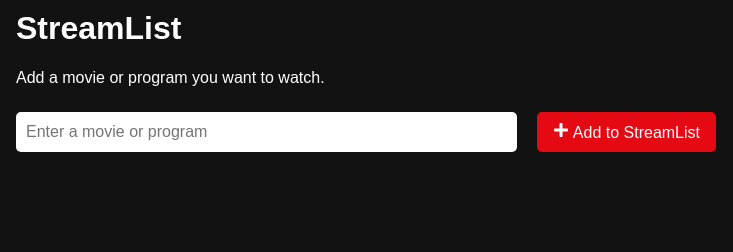
Test case: deletes an item from StreamList
In the field with placeholder "Enter a movie or program": (267, 132) [16,112,517,152], type "Superman"
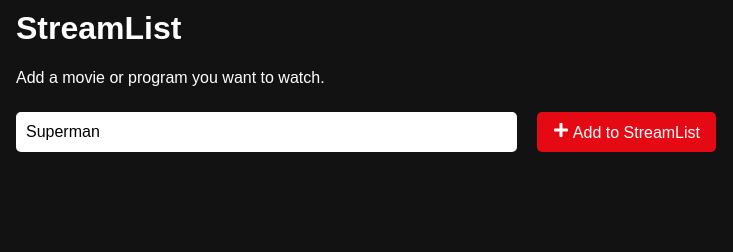
Click the button "Add to StreamList": (627, 132) [537,112,716,152]
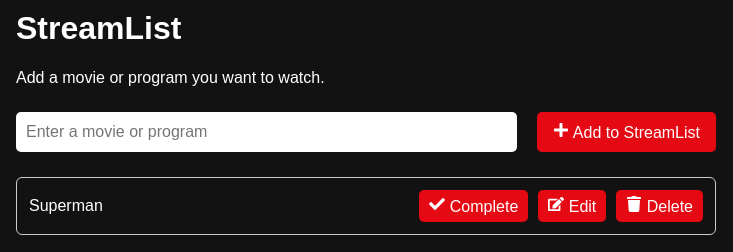
Click the button "Delete": (660, 206) [616,190,703,222]
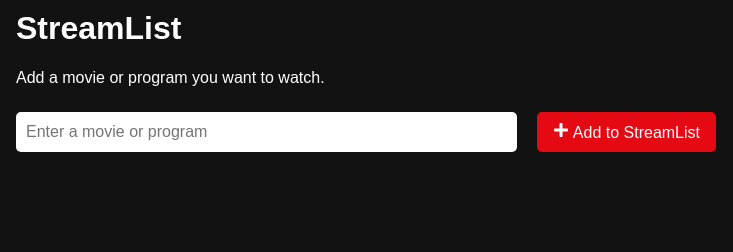
Check: the text "Superman" is gone
